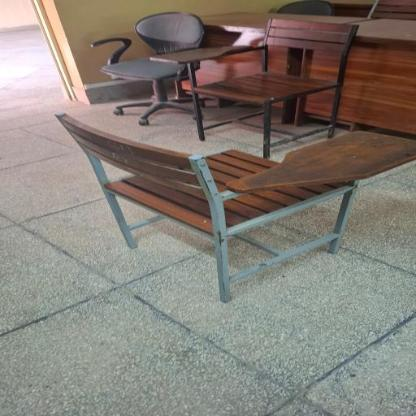chair: (46, 100, 416, 309), (147, 14, 365, 153), (79, 7, 209, 124)
